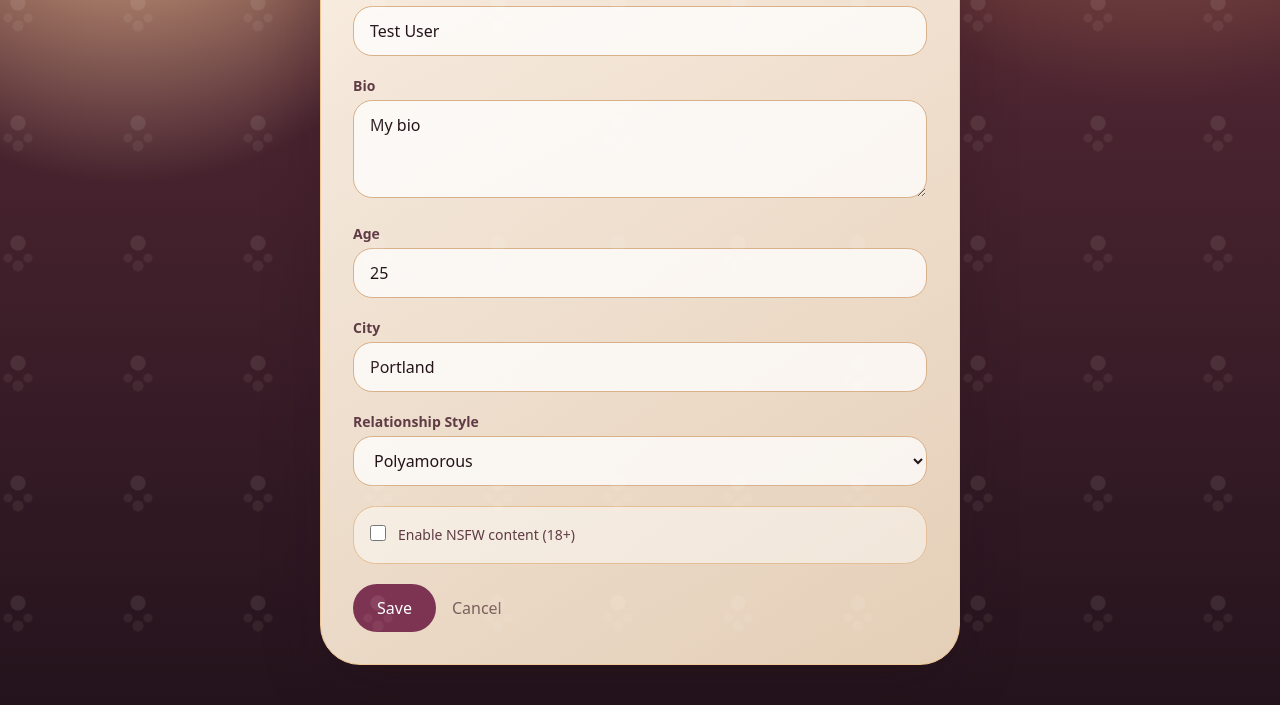
Test case: ProfileEditPage › shows error message when save fails
The image size is (1280, 705).
(page scrolled)
Click the button "Save".
click(394, 608)  # box x1=353 y1=584 x2=436 y2=632
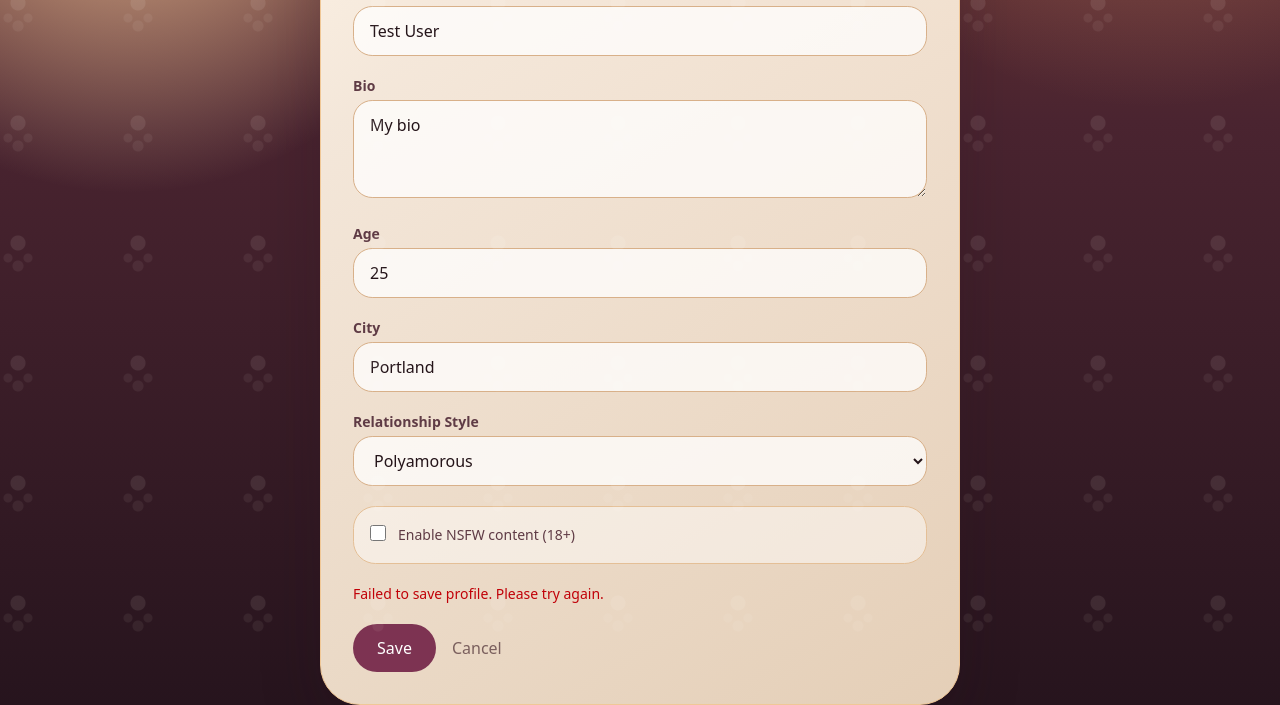
Check: the text "Failed to save profile. Please try again." is shown, box x1=353 y1=584 x2=604 y2=603
